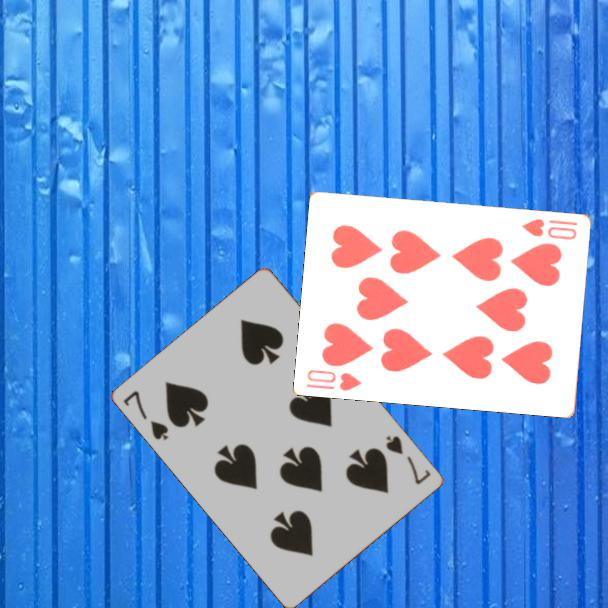h10: (519, 215, 581, 242), (303, 366, 365, 393)
s07: (120, 387, 172, 444), (382, 432, 434, 488)
